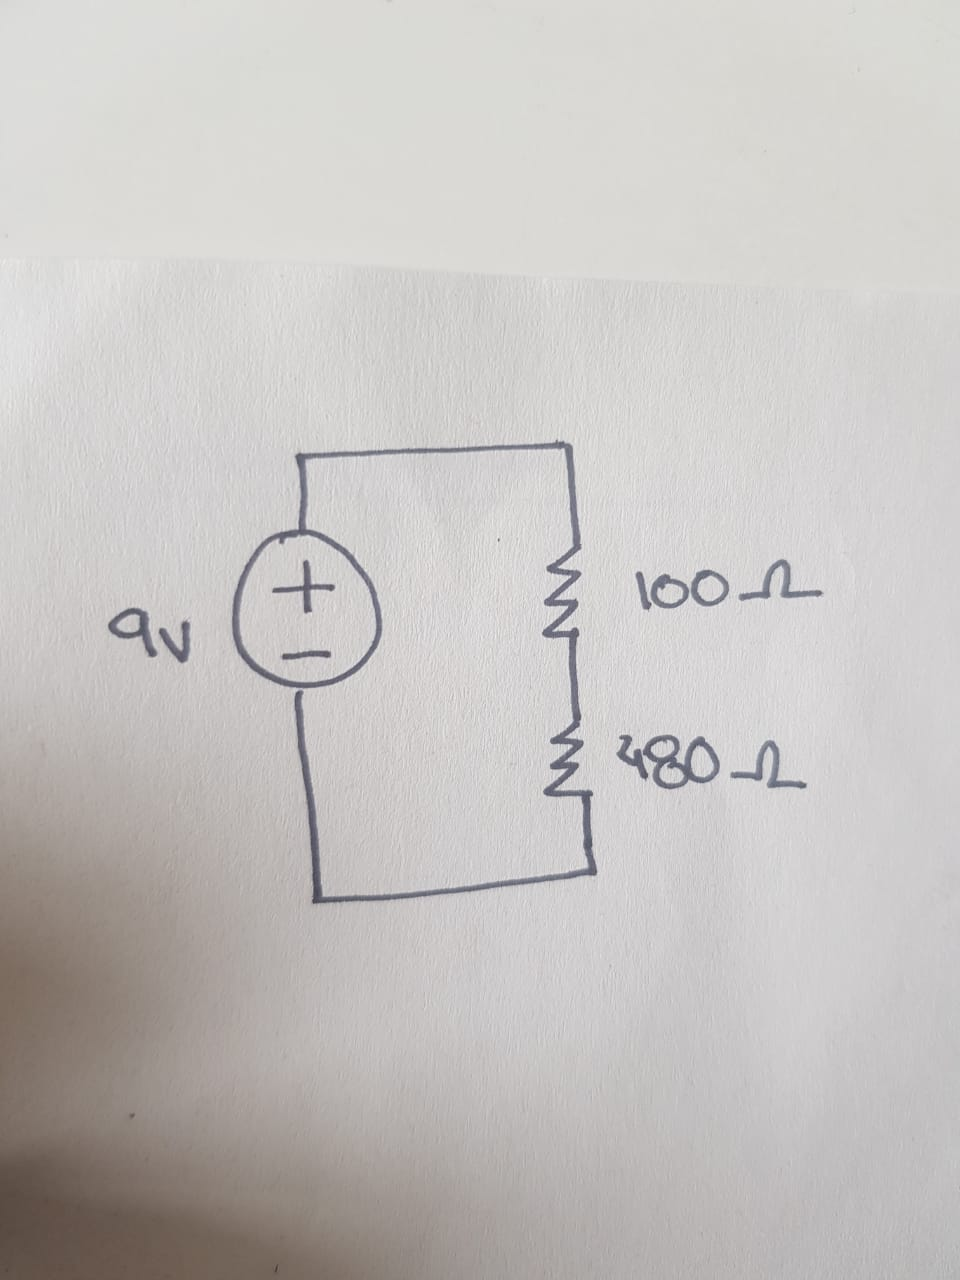junction: (580, 860, 606, 887), (306, 886, 329, 912), (554, 434, 579, 458), (292, 444, 312, 473)
resistor: (529, 538, 597, 654), (541, 718, 599, 809)
text: (609, 724, 813, 803), (627, 548, 827, 618), (97, 601, 199, 671)
voltage.dc: (221, 524, 394, 703)
